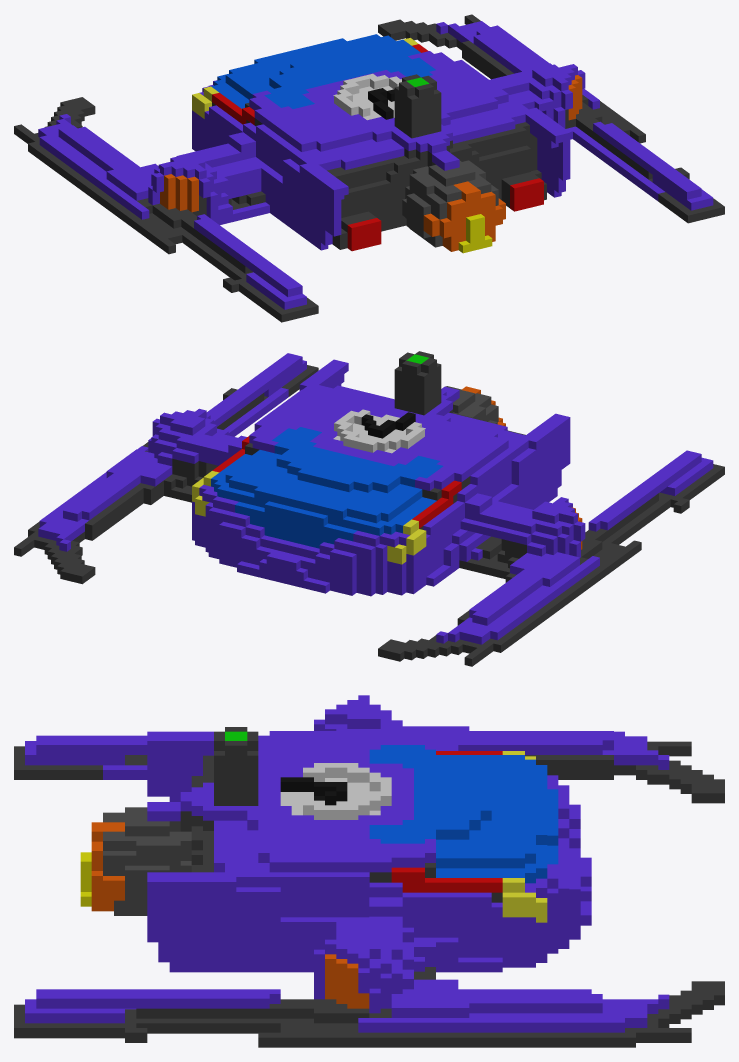
File: cyndrive_ships_ship.fbx
3 renders of one model, top to bottom at view 1: azimuth 30°, elevation 25°; view 2: azimuth 150°, elevation 25°; view 3: azimuth 270°, elevation 25°, orthographic. The views are drawn at different scales.
Parts seen in each view (by area): view 1: model_0; view 2: model_0; view 3: model_0.
Part boxes in pixels (x1,y1,x2,y2): model_0: [14, 14, 724, 322]; model_0: [14, 351, 724, 666]; model_0: [14, 695, 724, 1047].
Bounding box in the file's own units: 640 × 160 × 640.
